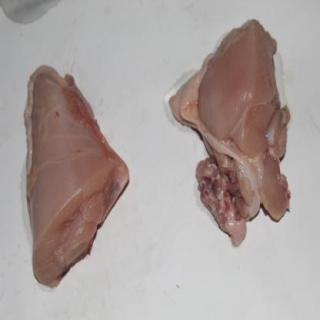Ayam: (170, 23, 289, 237), (26, 68, 131, 288)
